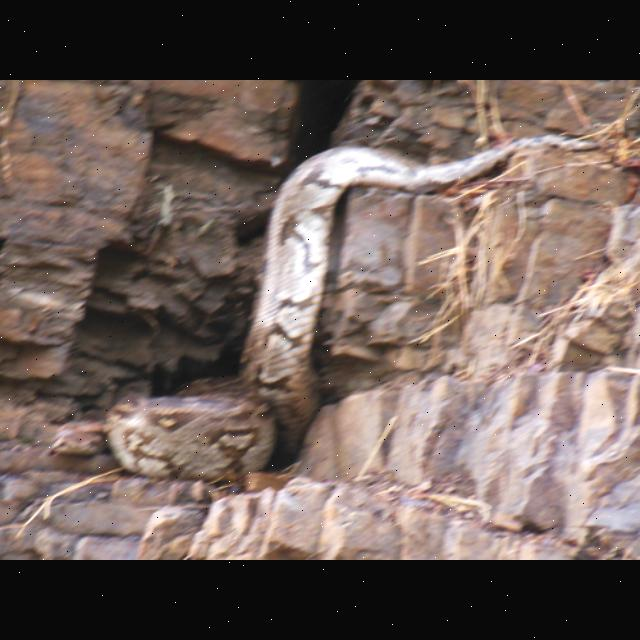snake: (38, 124, 592, 496)
